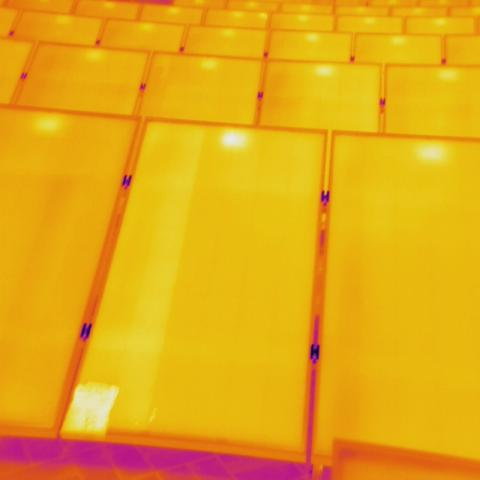fault: (56, 380, 122, 440), (221, 126, 246, 151)
